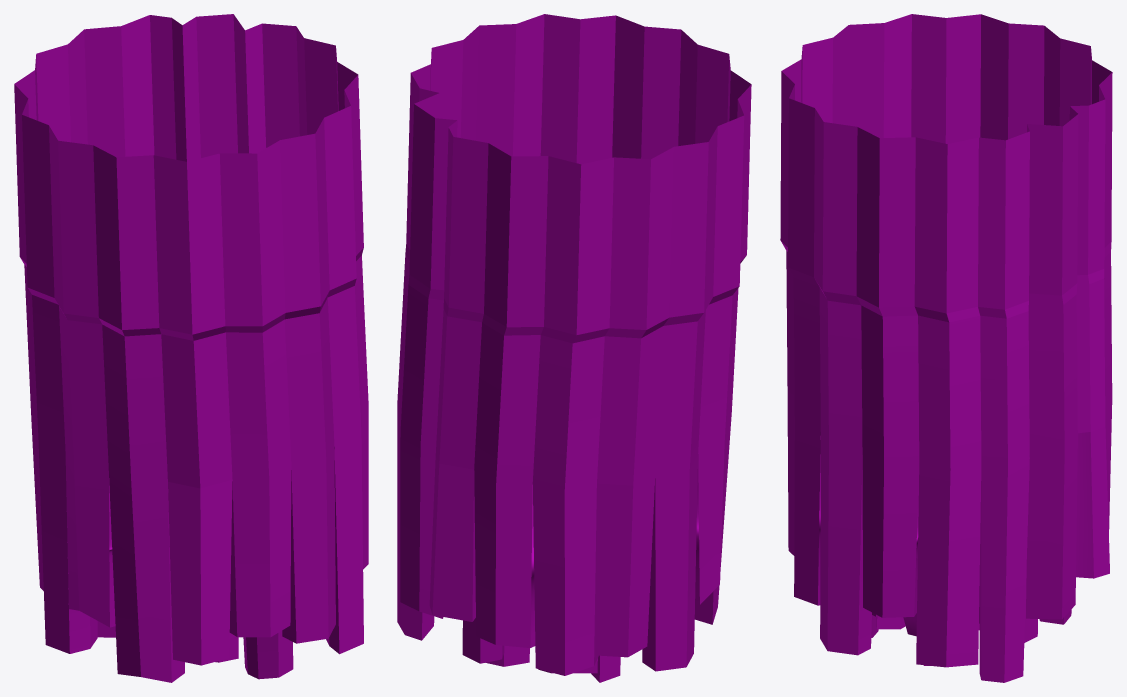
The model's file is Staffa.fbx.
The picture shows the model from 3 angles, left to right: view 1: azimuth 30°, elevation 25°; view 2: azimuth 150°, elevation 25°; view 3: azimuth 270°, elevation 25°; orthographic projection. The views are drawn at different scales.
Visible parts, largest first — view 1: Staffa; view 2: Staffa; view 3: Staffa.
Boxes of the visible parts, bbox=[...] form: Staffa: bbox=[14, 14, 368, 682]; Staffa: bbox=[397, 14, 751, 682]; Staffa: bbox=[780, 14, 1112, 682].
Bounding box in the file's own units: 15.93 × 27.42 × 15.28.
